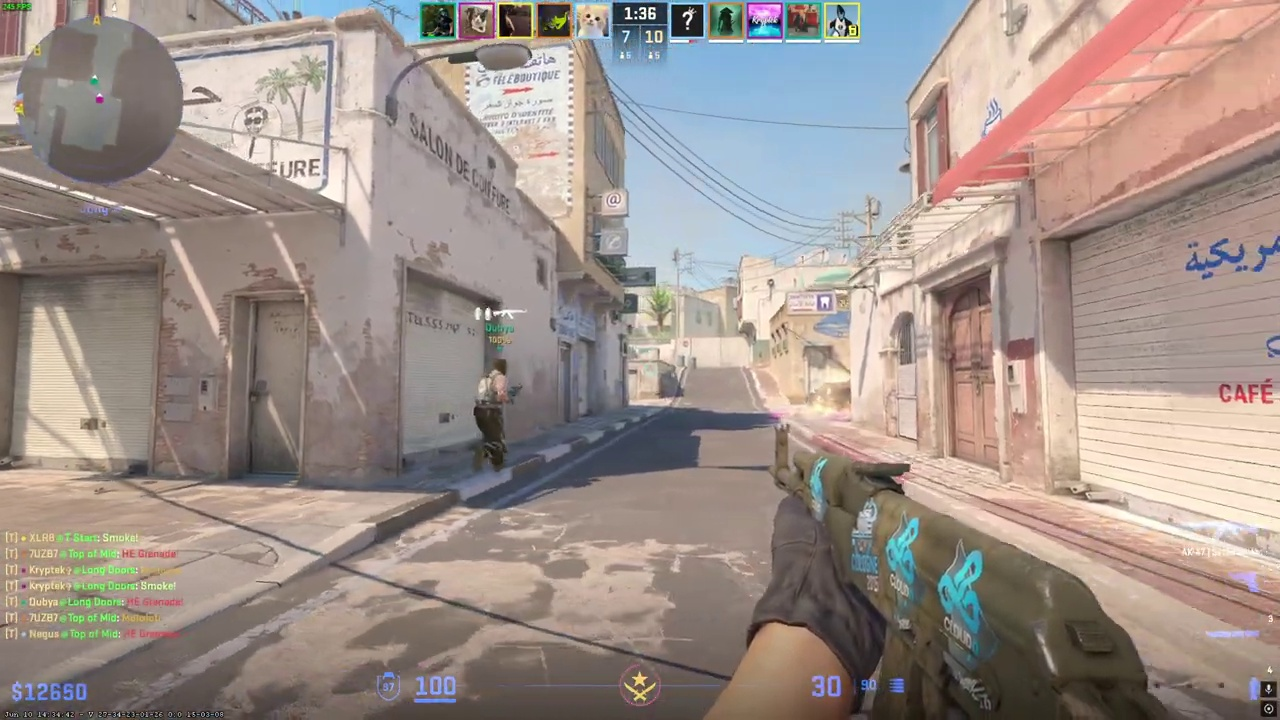Terrorist: (468, 357, 517, 477)
